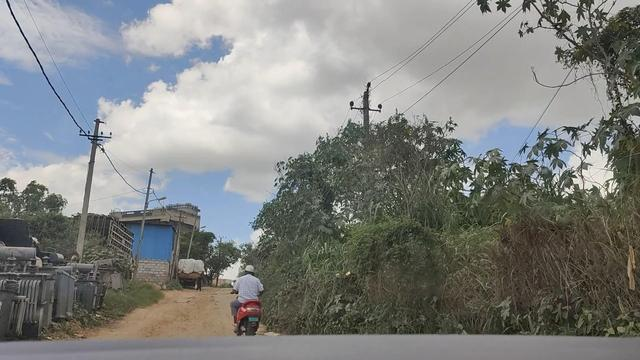HMV: (174, 256, 208, 296)
UnsurfacedRoad: (135, 300, 231, 342)
